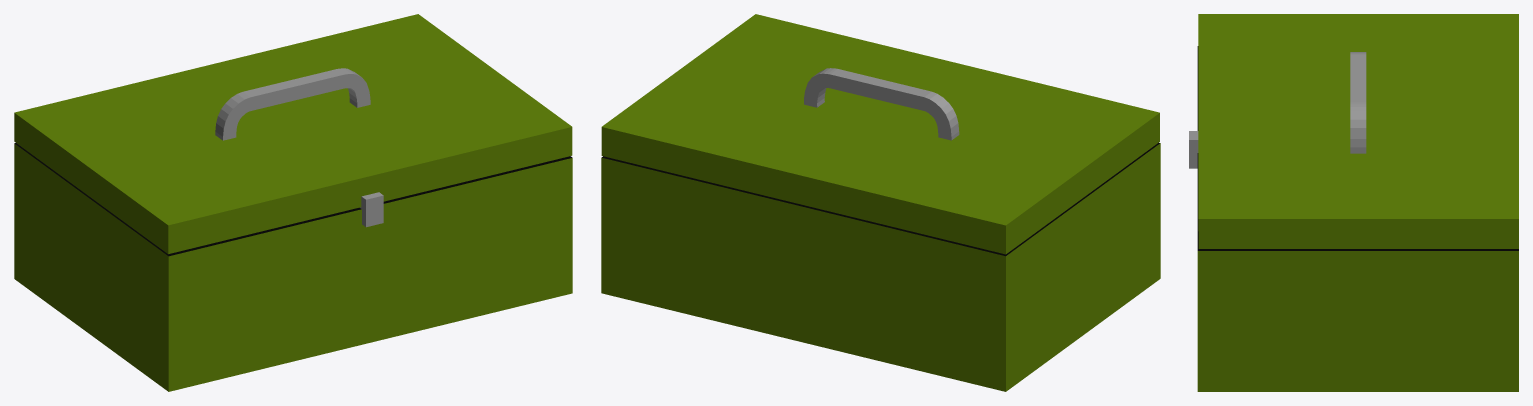
The model's file is toolboxdepositoverde.fbx.
The picture shows the model from 3 angles, left to right: view 1: azimuth 30°, elevation 25°; view 2: azimuth 150°, elevation 25°; view 3: azimuth 270°, elevation 25°; orthographic projection. The views are drawn at different scales.
Parts seen in each view (by area): view 1: Cube; view 2: Cube; view 3: Cube.
Boxes of the visible parts, x1,y1,x2,y2 form: Cube: (14, 14, 572, 391); Cube: (601, 14, 1160, 391); Cube: (1189, 14, 1518, 391).
Size of the model in its own units: 6095 by 2926 by 4144.
Materials: 1 (1 with a texture image).
